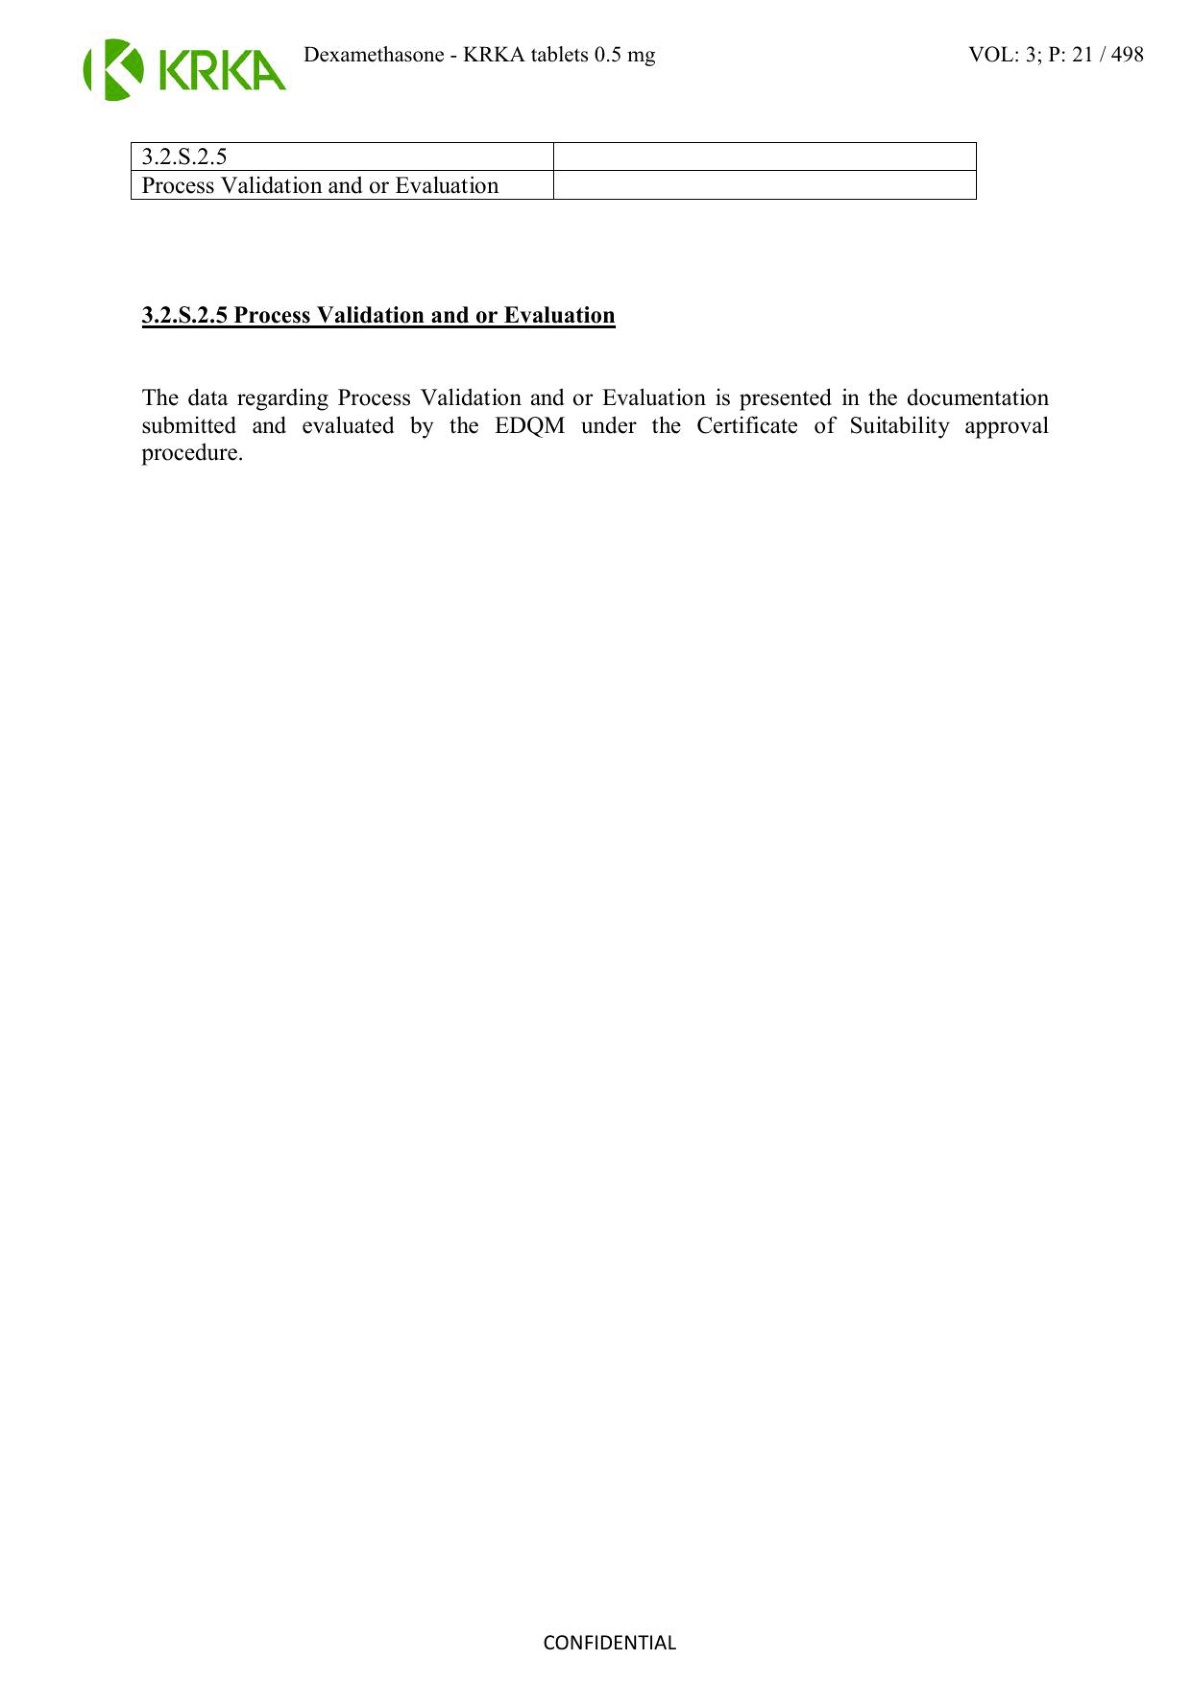full_lined: (129, 141, 978, 201)
